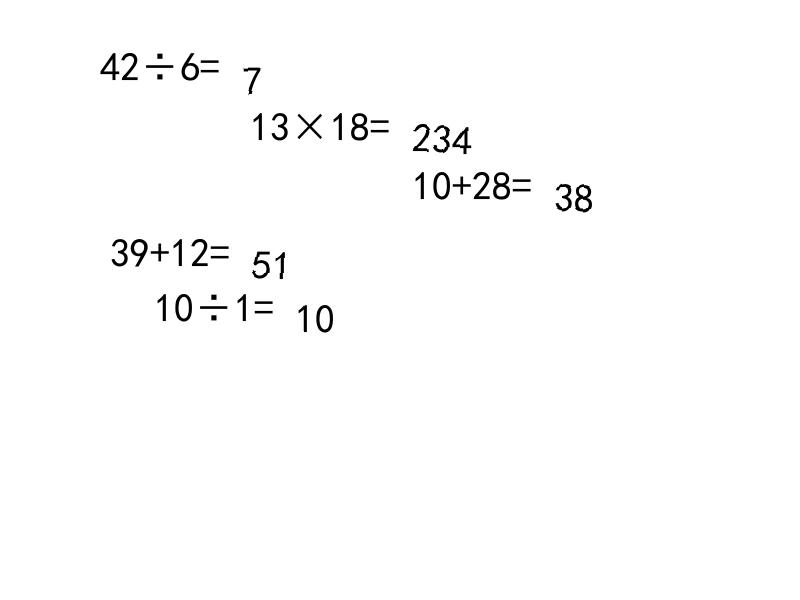+: (452, 165, 472, 195), (150, 232, 170, 261)
0: (432, 165, 452, 195), (174, 287, 194, 316), (304, 287, 324, 316)
1: (412, 165, 432, 195), (250, 106, 270, 135), (330, 106, 350, 135), (170, 232, 190, 261), (260, 232, 280, 261), (154, 287, 174, 316), (234, 287, 254, 316), (284, 287, 304, 316)
2: (472, 165, 492, 195), (120, 46, 140, 75), (400, 106, 420, 135), (190, 232, 210, 261)
3: (542, 165, 562, 195), (270, 106, 290, 135), (420, 106, 440, 135), (110, 232, 130, 261)
4: (100, 46, 120, 75), (440, 106, 460, 135)
5: (240, 232, 260, 261)
6: (180, 46, 200, 75)
7: (230, 46, 250, 75)
8: (492, 165, 512, 195), (562, 165, 582, 195), (350, 106, 370, 135)
9: (130, 232, 150, 261)
=: (512, 165, 532, 195), (200, 46, 220, 75), (370, 106, 390, 135), (210, 232, 230, 261), (254, 287, 274, 316)
×: (290, 106, 330, 135)
÷: (140, 46, 180, 75), (194, 287, 234, 316)
